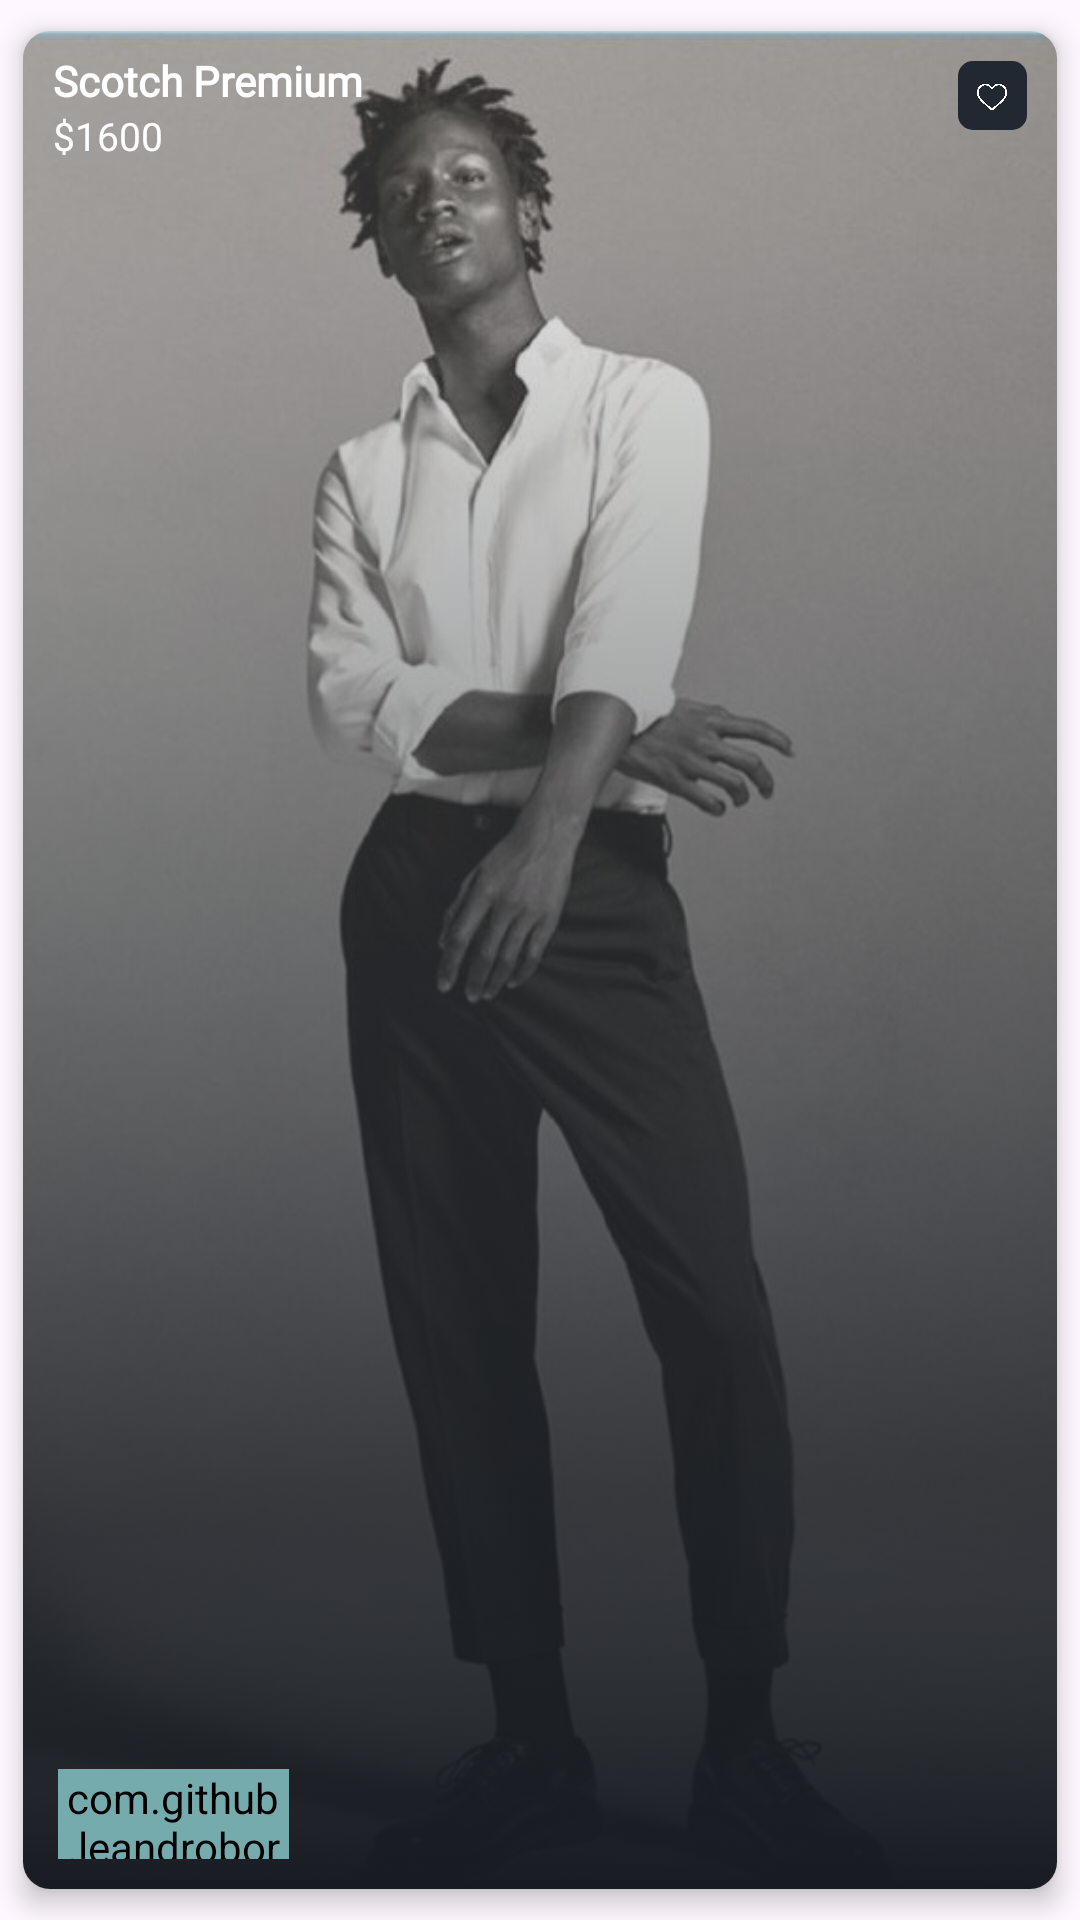

Screen size 1080×1920. Icon name, then its center in pixels as [x,y]:
not favourite: [992,97]
